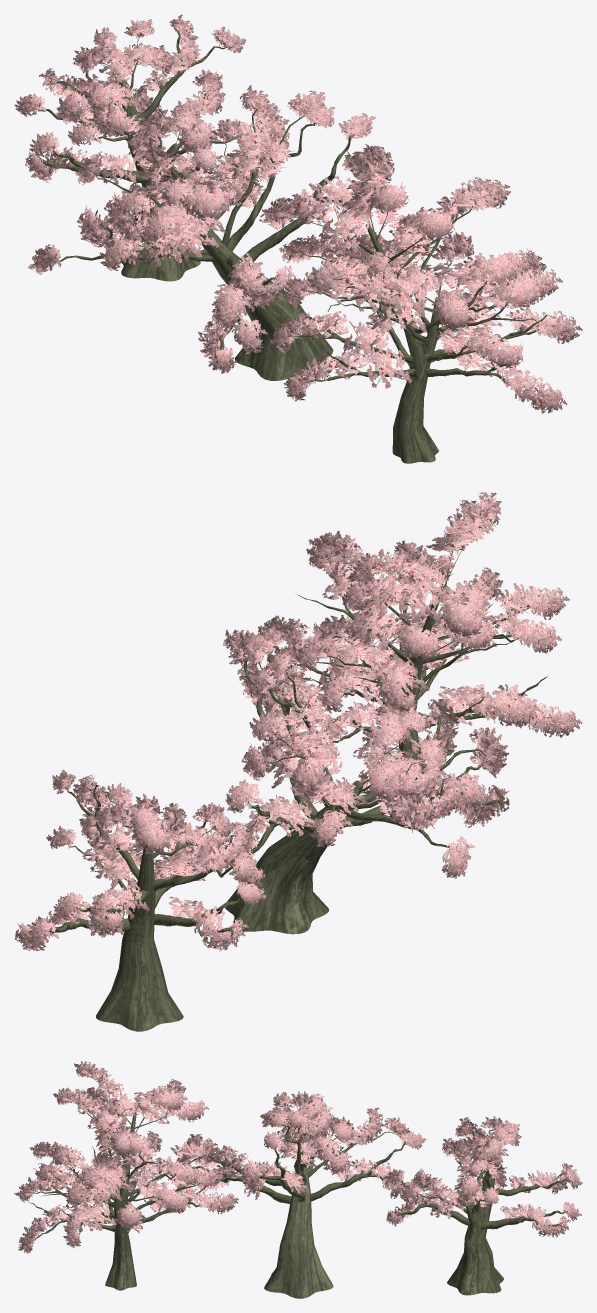
Rendered from Blossom_pack.fbx.
The picture shows the model from 3 angles, top to bottom: view 1: azimuth 30°, elevation 25°; view 2: azimuth 150°, elevation 25°; view 3: azimuth 270°, elevation 25°; orthographic projection. The views are drawn at different scales.
Visible parts, largest first — view 1: Blossom02_jabami_mesh, Blossomtree00_jabami_mesh, Blossom01_jabami_mesh; view 2: Blossomtree00_jabami_mesh, Blossom02_jabami_mesh, Blossom01_jabami_mesh; view 3: Blossom02_jabami_mesh, Blossomtree00_jabami_mesh, Blossom01_jabami_mesh.
Part boxes in pixels (box(x1,y1,x2,y2)): Blossom02_jabami_mesh: box(262, 144, 582, 463); Blossomtree00_jabami_mesh: box(28, 85, 392, 380); Blossom01_jabami_mesh: box(14, 14, 258, 281); Blossomtree00_jabami_mesh: box(223, 626, 509, 934); Blossom02_jabami_mesh: box(257, 492, 582, 818); Blossom01_jabami_mesh: box(14, 769, 266, 1031); Blossom02_jabami_mesh: box(14, 1061, 238, 1290); Blossomtree00_jabami_mesh: box(173, 1091, 426, 1298); Blossom01_jabami_mesh: box(383, 1116, 582, 1295).
Size of the model in its own units: 1487 by 1199 by 2995.
Materials: 2 (2 with a texture image).
